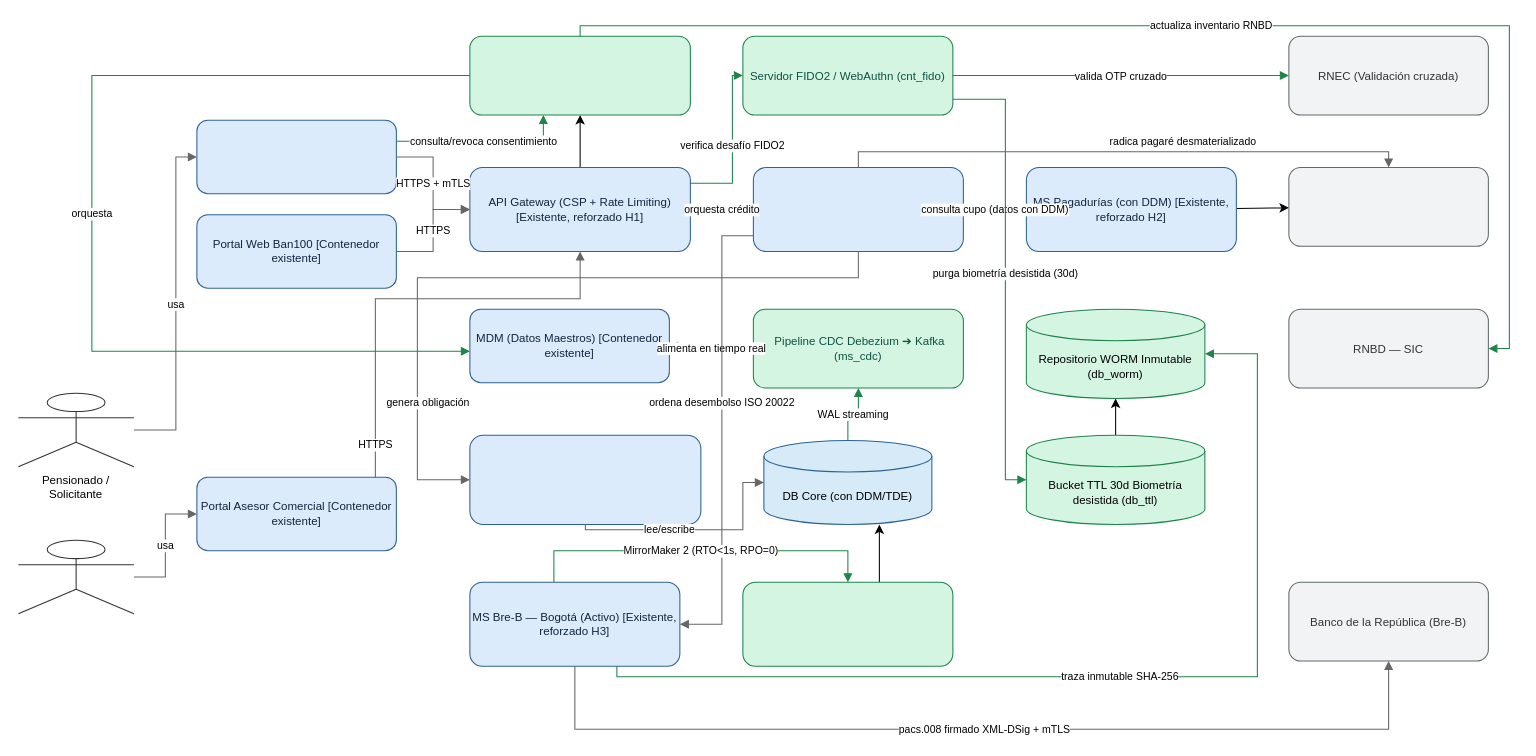
The diagram is 1536 pixels wide and 756 high, and some of its shapes have lost their labels. The shapes that lost their labels are listed below. From the top down, each one's box as (x1, y1, x2, y2) in pixels, then its label:
(469, 35, 690, 115): Módulo Privacidad y Derechos ARCO (cnt_arco)
(196, 119, 396, 194): App Móvil Ban100 [Contenedor existente]
(752, 166, 963, 251): MS Originación (Zero Trust) [Existente, reforzado H2]
(1288, 166, 1488, 246): DECEVAL (Custodia Pagarés)
(469, 434, 701, 524): Core Bancario Estrangulado (K8s) [Existente, en migración H3]
(17, 539, 134, 614): Asesor Comercial
(742, 581, 953, 666): MS Bre-B — Medellín (Réplica Activa, MirrorMaker 2)
